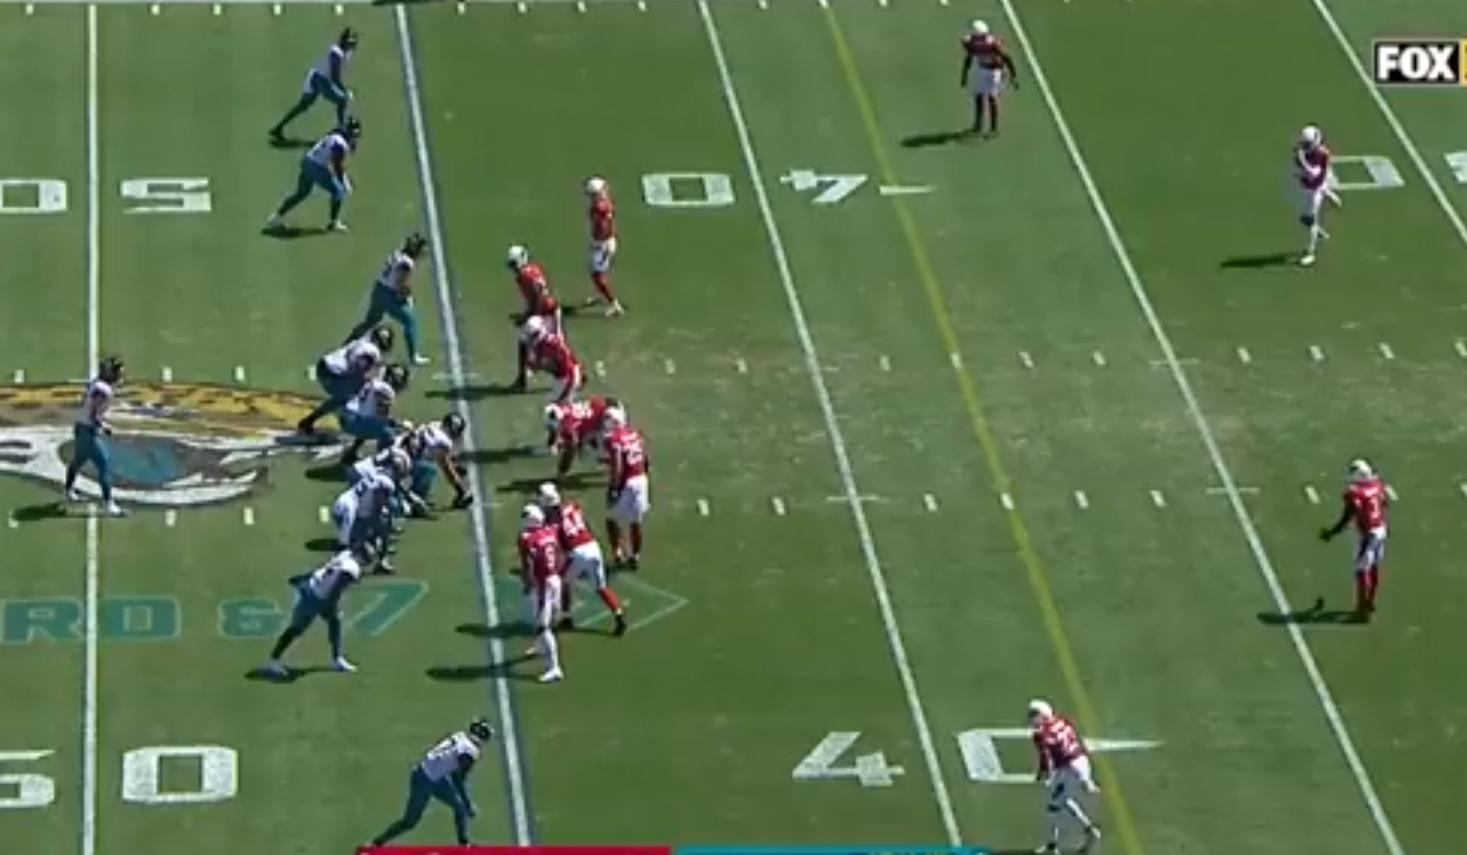center: (426, 413, 472, 506)
db: (1032, 696, 1100, 840), (1291, 121, 1339, 262), (1358, 467, 1394, 605), (963, 20, 1009, 123)
lb: (602, 408, 656, 559)
qb: (75, 369, 121, 507)
skill: (539, 483, 624, 640), (407, 719, 491, 832), (283, 550, 364, 667), (518, 504, 572, 679), (374, 230, 428, 352), (298, 129, 359, 227), (295, 37, 352, 118), (584, 183, 619, 305), (512, 248, 553, 308)
